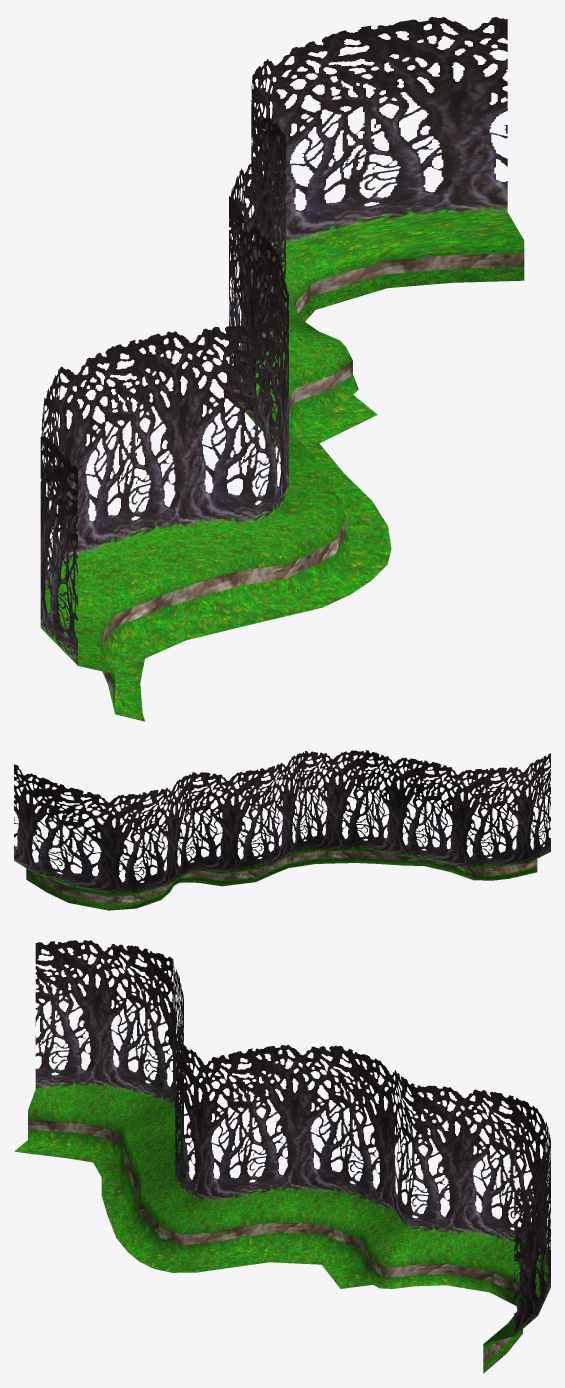
The model's file is EKH_ENTRANCE_PS_EN_BANK4746__GX.fbx.
3 renders of one model, top to bottom at view 1: azimuth 30°, elevation 25°; view 2: azimuth 150°, elevation 25°; view 3: azimuth 270°, elevation 25°, orthographic. The views are drawn at different scales.
Visible parts, largest first — view 1: EKH_ENTRANCE_PS_EN_BANK4746__GX; view 2: EKH_ENTRANCE_PS_EN_BANK4746__GX; view 3: EKH_ENTRANCE_PS_EN_BANK4746__GX.
Part boxes in pixels (x1,y1,x2,y2): EKH_ENTRANCE_PS_EN_BANK4746__GX: [40, 17, 524, 721]; EKH_ENTRANCE_PS_EN_BANK4746__GX: [14, 750, 550, 910]; EKH_ENTRANCE_PS_EN_BANK4746__GX: [14, 940, 550, 1373].
Bounding box in the file's own units: 458056 × 169202 × 381220.
3 materials, 3 textured.
